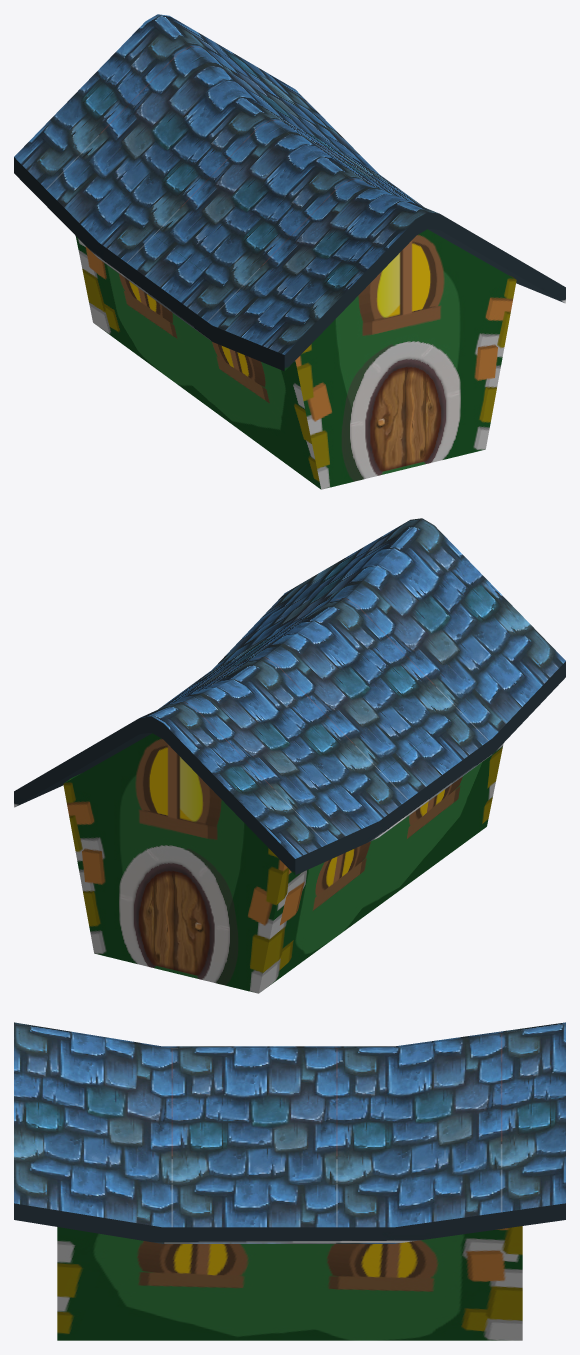
3 renders of one model, top to bottom at view 1: azimuth 30°, elevation 25°; view 2: azimuth 150°, elevation 25°; view 3: azimuth 270°, elevation 25°, orthographic.
Visible parts, largest first — view 1: final:polySurface45; view 2: final:polySurface45; view 3: final:polySurface45.
Part boxes in pixels (<box>): final:polySurface45: <box>14,14,565,489</box>; final:polySurface45: <box>14,518,565,993</box>; final:polySurface45: <box>14,1022,565,1340</box>.
Size of the model in its own units: 1414 by 1307 by 2358.
